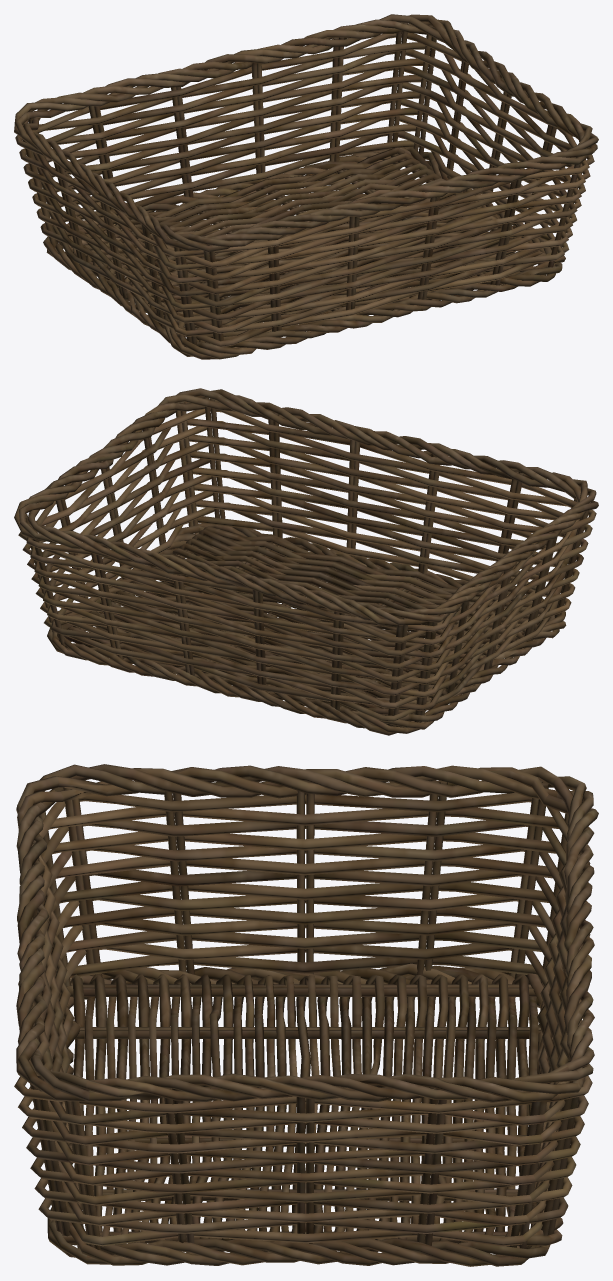
Rendered from wicker_basket_01.glb.
The picture shows the model from 3 angles, top to bottom: view 1: azimuth 30°, elevation 25°; view 2: azimuth 150°, elevation 25°; view 3: azimuth 270°, elevation 25°; orthographic projection. The views are drawn at different scales.
Visible parts, largest first — view 1: wicker_basket_01; view 2: wicker_basket_01; view 3: wicker_basket_01.
Boxes of the visible parts, x1=… form: wicker_basket_01: x1=14, y1=14, x2=598, y2=359; wicker_basket_01: x1=14, y1=388, x2=598, y2=735; wicker_basket_01: x1=14, y1=764, x2=598, y2=1266.
Size of the model in its own units: 0.3832 by 0.1174 by 0.295.
1 material, 1 textured.
